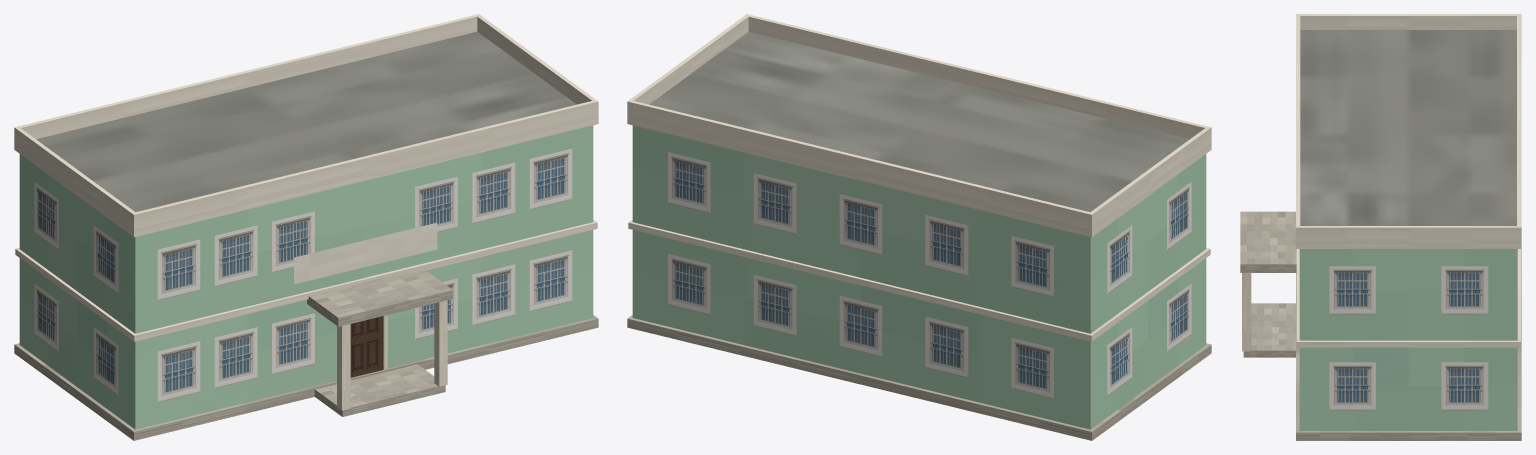
File: school-mint-far.glb
3 views of the same model, side by side, from view 1: azimuth 30°, elevation 25°; view 2: azimuth 150°, elevation 25°; view 3: azimuth 270°, elevation 25° (orthographic). The views are drawn at different scales.
Visible parts, largest first — view 1: school-mint-far, sign_1; view 2: school-mint-far; view 3: school-mint-far.
Part boxes in pixels (bbox=[...]): school-mint-far: bbox=[14, 14, 598, 440]; sign_1: bbox=[294, 222, 437, 284]; school-mint-far: bbox=[627, 14, 1211, 440]; school-mint-far: bbox=[1240, 14, 1521, 440].
Bounding box in the file's own units: 16.24 × 7.55 × 9.02.
1 material, 1 textured.
